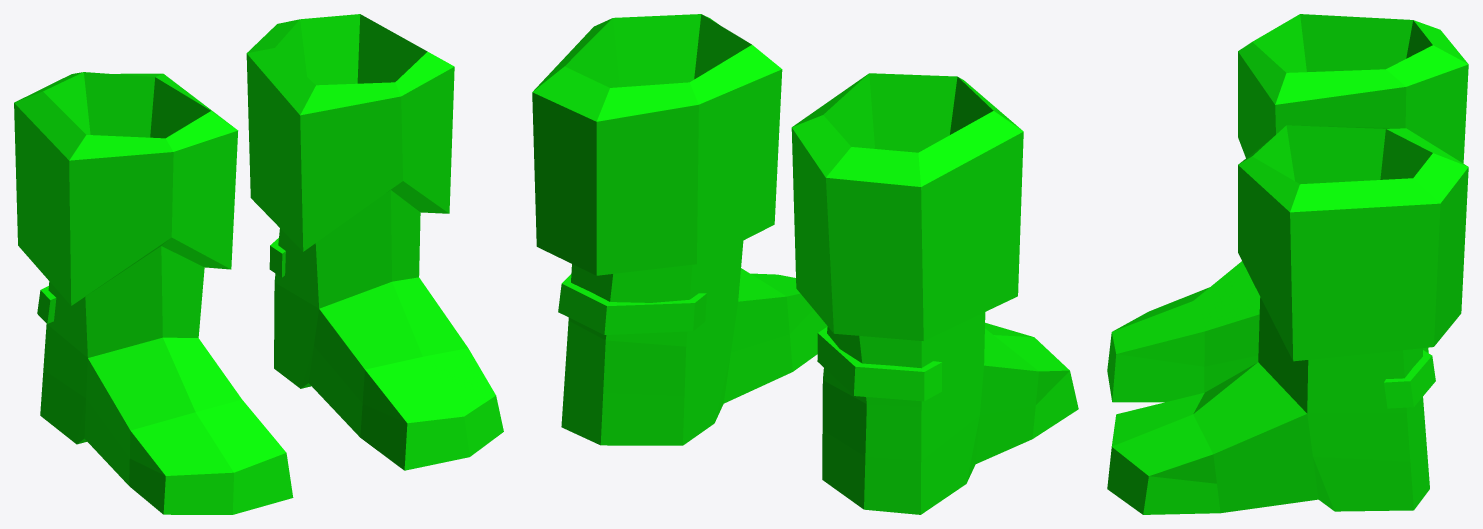
The model's file is SM_Armor_Shoes_C_Fantasy.fbx.
The picture shows the model from 3 angles, left to right: view 1: azimuth 30°, elevation 25°; view 2: azimuth 150°, elevation 25°; view 3: azimuth 270°, elevation 25°; orthographic projection. The views are drawn at different scales.
Parts seen in each view (by area): view 1: armor-shoes-c-fantasy; view 2: armor-shoes-c-fantasy; view 3: armor-shoes-c-fantasy.
Part boxes in pixels (<box>): armor-shoes-c-fantasy: <box>14,14,503,514</box>; armor-shoes-c-fantasy: <box>532,14,1078,514</box>; armor-shoes-c-fantasy: <box>1107,14,1468,514</box>.
Size of the model in its own units: 0.3663 by 0.2941 by 0.2911.
